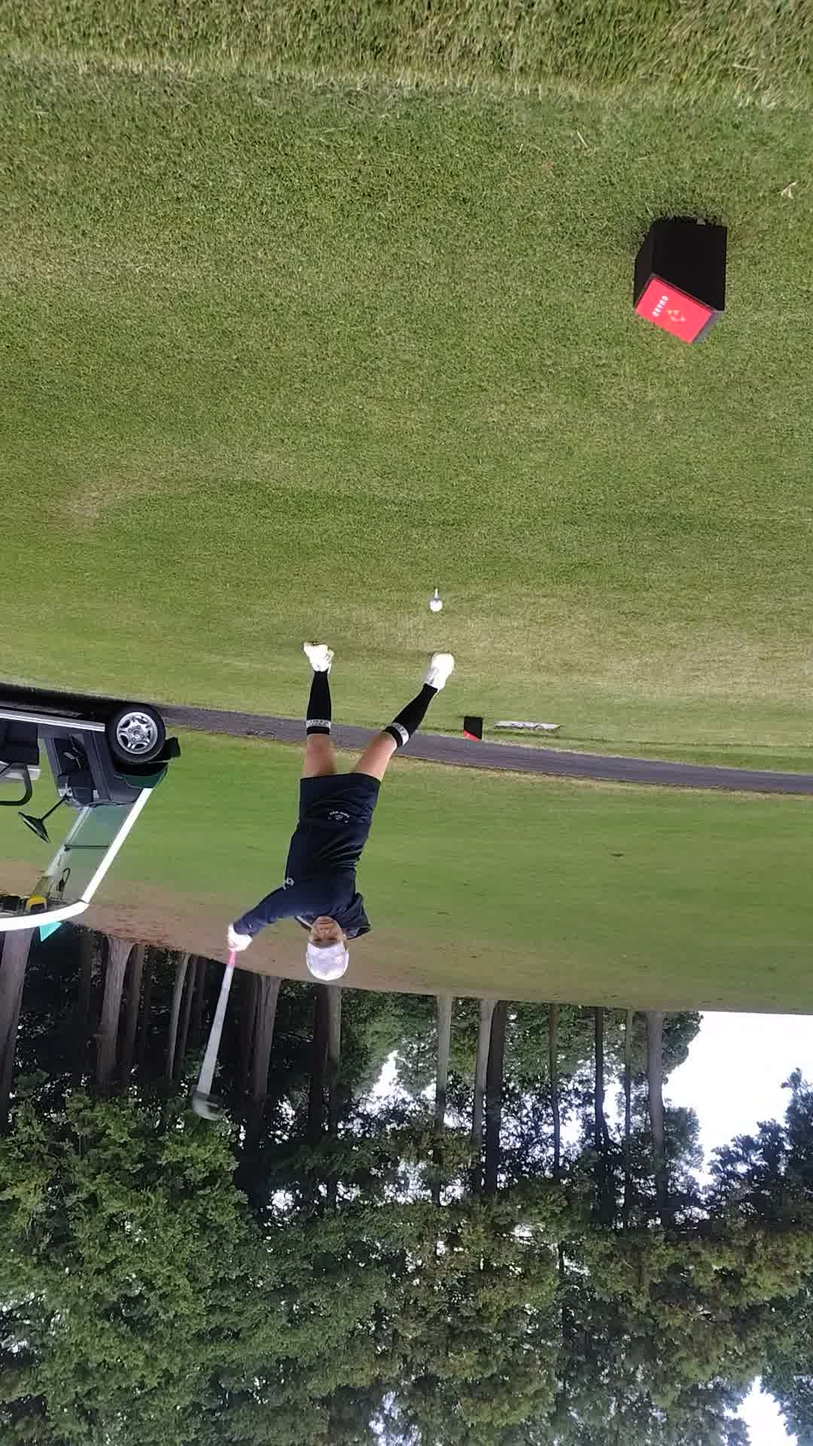clubhead: (148, 1029, 276, 1157)
